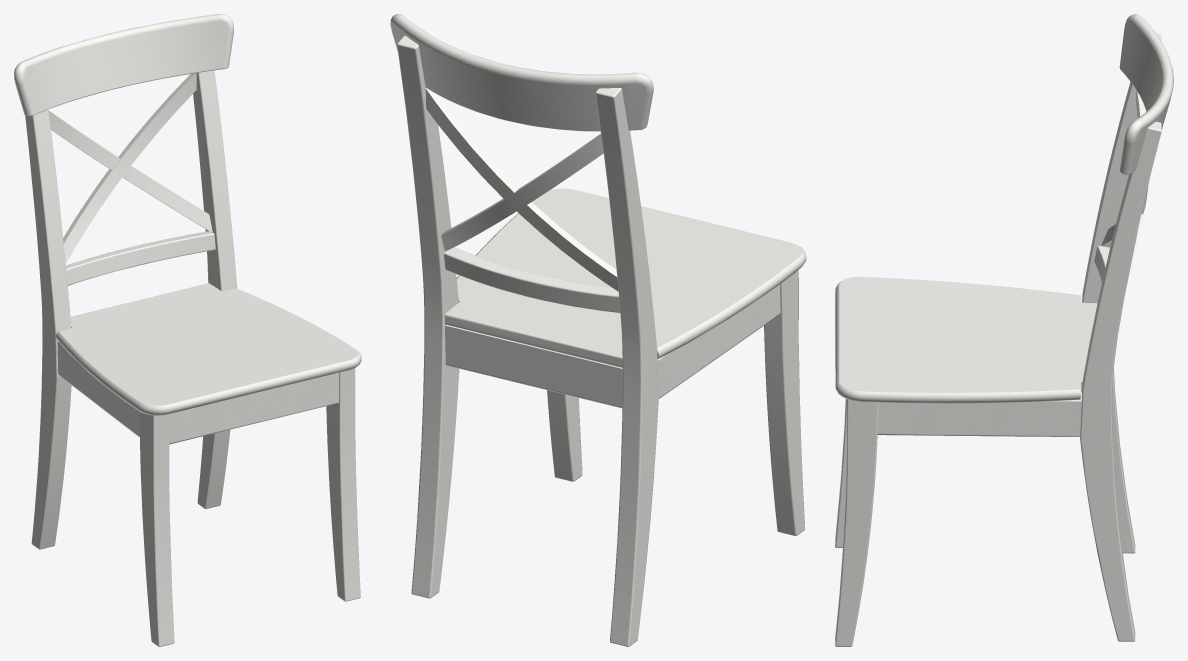
Rendered from WoodChairFTable.glb.
The picture shows the model from 3 angles, left to right: view 1: azimuth 30°, elevation 25°; view 2: azimuth 150°, elevation 25°; view 3: azimuth 270°, elevation 25°; orthographic projection. The views are drawn at different scales.
Visible parts, largest first — view 1: ROSENTORP_805.699.98; view 2: ROSENTORP_805.699.98; view 3: ROSENTORP_805.699.98.
Boxes of the visible parts, x1,y1,x2,y2 form: ROSENTORP_805.699.98: (14, 14, 361, 646); ROSENTORP_805.699.98: (390, 14, 806, 646); ROSENTORP_805.699.98: (835, 14, 1173, 646).
Size of the model in its own units: 0.4364 by 0.9096 by 0.5311.
1 material, 1 textured.
